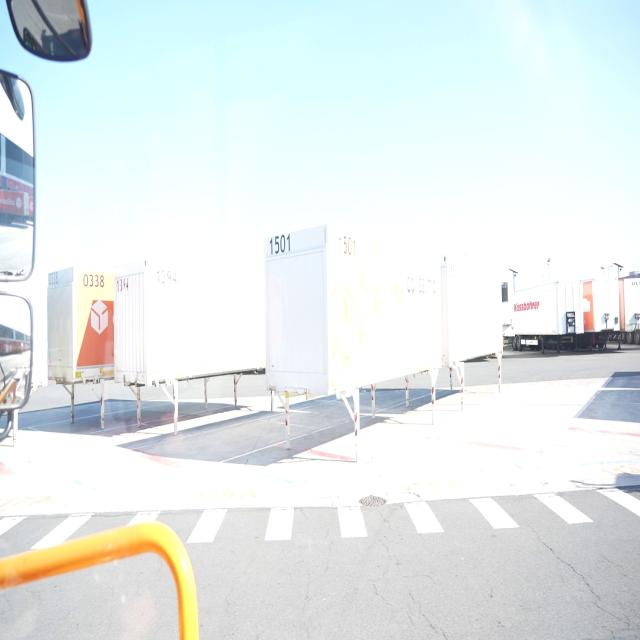Code: (266, 230, 294, 262), (80, 267, 105, 291)
